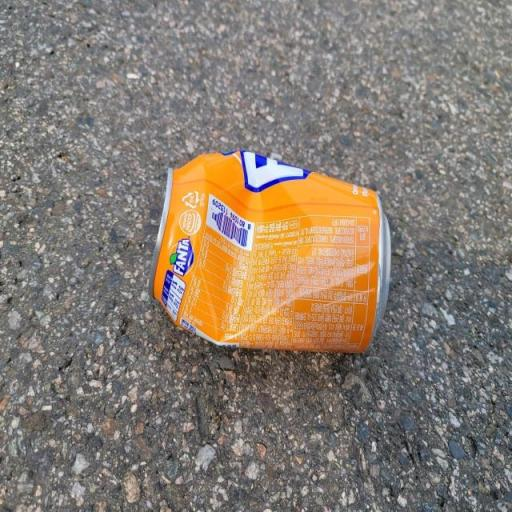metal: (101, 144, 453, 444)
